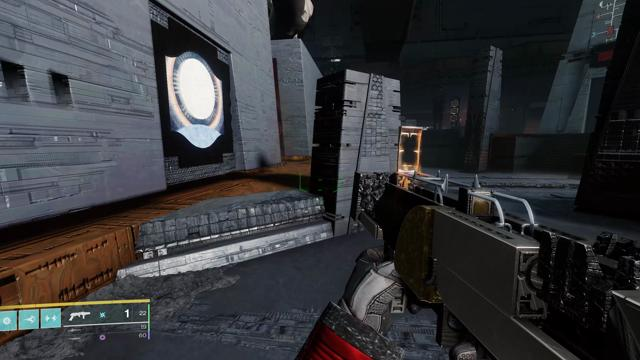traveler: (164, 50, 226, 149)
